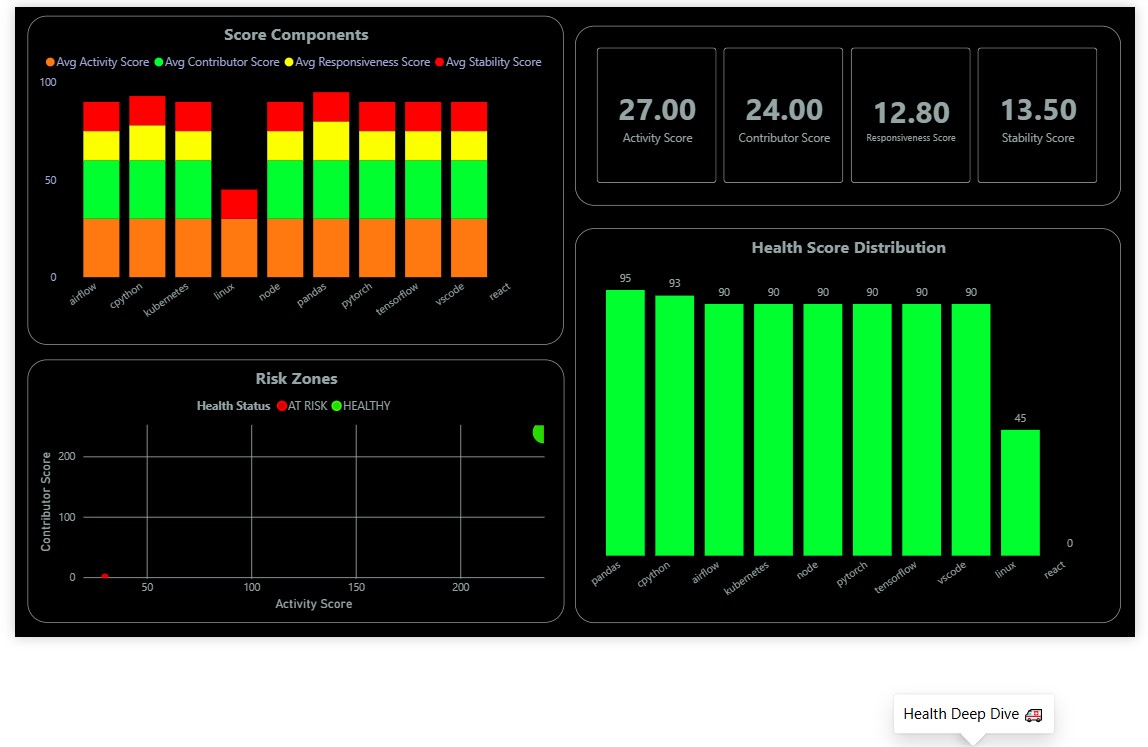

What the dashboard file says about the page in this screenshot:
{"tool":"powerbi","page":{"name":"Health Deep Dive 🚑","canvas":[1280,720],"ordinal":5},"visuals":[{"type":"columnChart","title":" Score Components ","fields":{"Category":["Repositories.repo_name"],"Y":["HealthScores.Avg Activity Score","HealthScores.Avg Contributor Score","HealthScores.Avg Responsiveness Score","HealthScores.Avg Stability Score"]},"box":[14.3,10,612.9,375.7],"z":0},{"type":"scatterChart","title":"Risk Zones ","fields":{"X":["Sum(HealthScores.activity_score)"],"Y":["Sum(HealthScores.contributor_score)"],"Series":["HealthScores.health_status"],"Size":["Sum(HealthScores.overall_health_score)"]},"box":[13.7,403.4,613.4,300.5],"z":1000},{"type":"clusteredColumnChart","title":"Health Score Distribution ","fields":{"Category":["Repositories.repo_name"],"Y":["Sum(HealthScores.overall_health_score)"]},"box":[640,252.9,624.3,451.4],"z":2000},{"type":"cardVisual","title":"Score c omponents ","fields":{"Data":["HealthScores.Avg Activity Score","HealthScores.Avg Contributor Score","HealthScores.Avg Responsiveness Score","HealthScores.Avg Stability Score"]},"box":[640,21.4,624.3,205.7],"z":3000}]}

Visuals, with their boxes on the page's 1280x720 design canvas (x1, y1, x2, y2). These are canvas units, not pixel positions in the 1148x747 screenshot, which may show the page scaled, cropped or inside an application window:
" Score Components " columnChart: box(14, 10, 627, 386)
"Risk Zones " scatterChart: box(14, 403, 627, 704)
"Health Score Distribution " clusteredColumnChart: box(640, 253, 1264, 704)
"Score c omponents " cardVisual: box(640, 21, 1264, 227)
